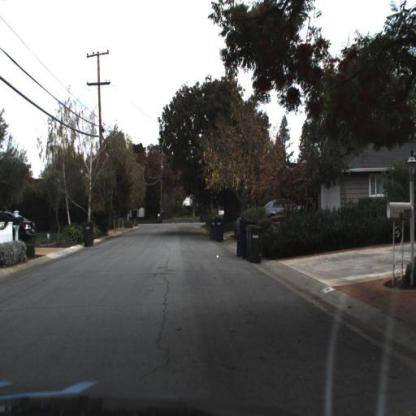car: (258, 188, 304, 228)
